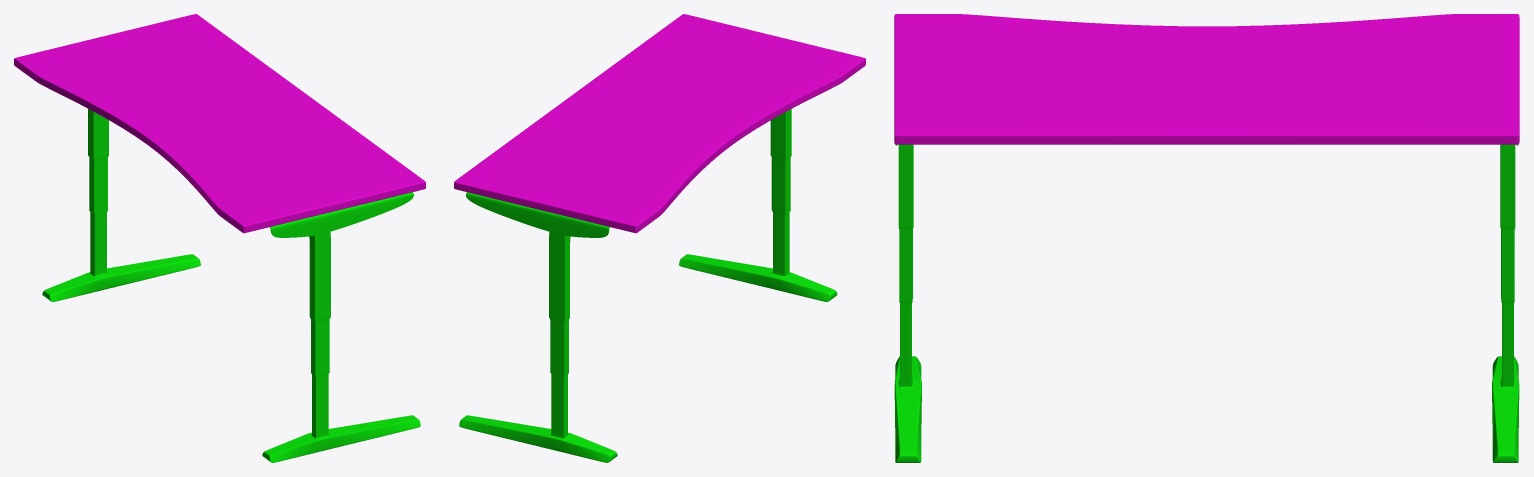
File: favicon standing desk 1.glb
3 views of the same model, side by side, from view 1: azimuth 30°, elevation 25°; view 2: azimuth 150°, elevation 25°; view 3: azimuth 270°, elevation 25° (orthographic). The views are drawn at different scales.
Visible parts, largest first — view 1: Cube.001, Cube, Plane; view 2: Cube.001, Cube, Plane; view 3: Cube.001, Cube.
Part boxes in pixels (x1,y1,x2,y2): Cube.001: (14, 14, 425, 233); Cube: (42, 109, 420, 462); Plane: (270, 192, 413, 237); Cube.001: (454, 14, 865, 233); Cube: (459, 109, 837, 462); Plane: (466, 192, 609, 237); Cube.001: (894, 14, 1519, 144); Cube: (894, 144, 1519, 462).
Size of the model in its own units: 23.75 by 30.32 by 51.68.
